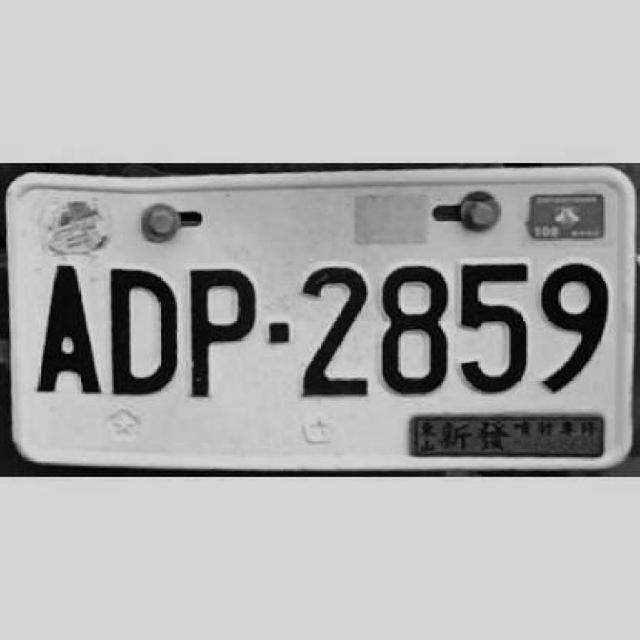-: (265, 315, 292, 351)
2: (294, 257, 372, 405)
5: (452, 255, 532, 400)
8: (375, 258, 451, 400)
9: (532, 257, 612, 398)
A: (32, 253, 103, 404)
D: (104, 260, 178, 403)
P: (184, 259, 256, 406)
